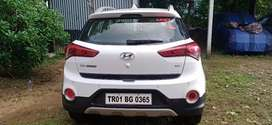TR01BG0365: (105, 93, 152, 104)
